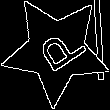P_SW: (26, 21, 86, 80)
